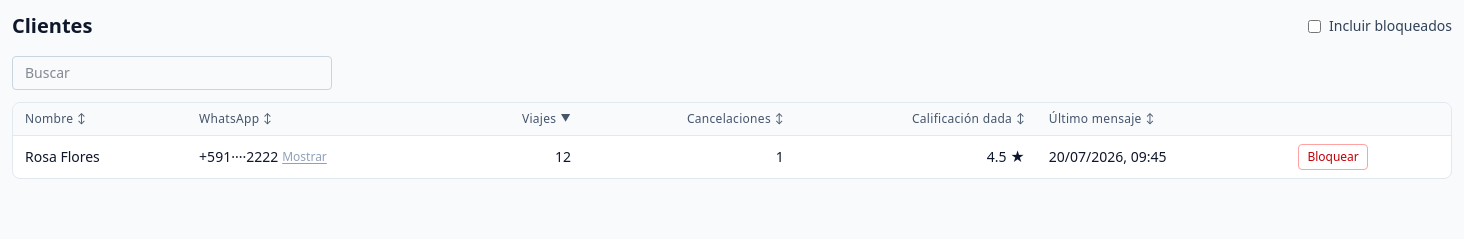
listado de clientes › los bloqueados quedan fuera salvo que se pidan
Expected: the table is shown, [13,103,1451,178]
Expected: the text "+591····4444" is not shown
Click the checkbox labelled "Incluir bloqueados". click: (1315, 26)
box: [1308,20,1321,32]
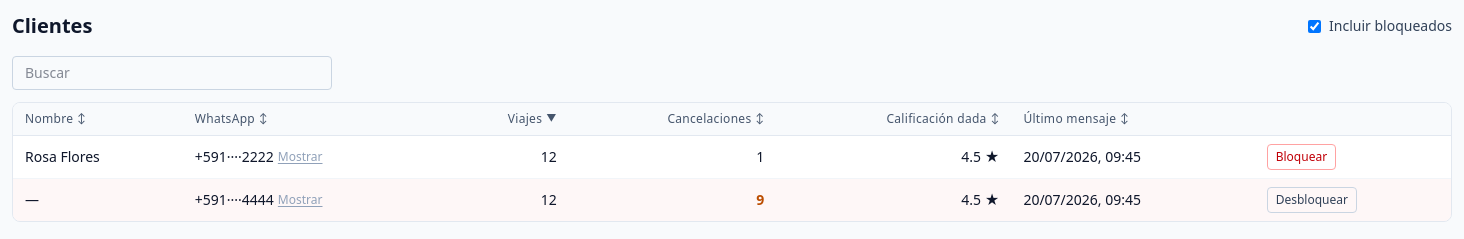
Now the text "+591····4444" is shown, box [195,190,274,210]
